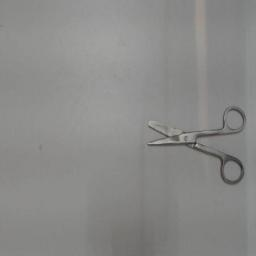Dressing Scissors: (139, 102, 249, 192)
